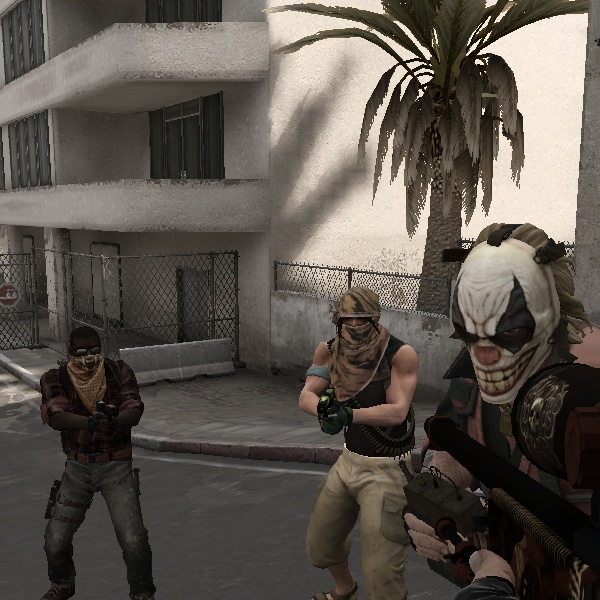t_body: (267, 277, 435, 600), (24, 317, 162, 600)
t_head: (322, 283, 393, 352), (59, 322, 109, 378)
